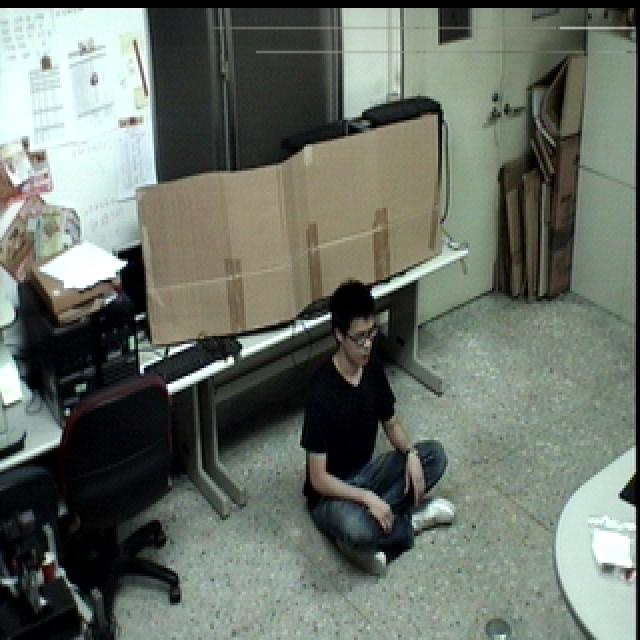sit: (296, 278, 458, 583)
